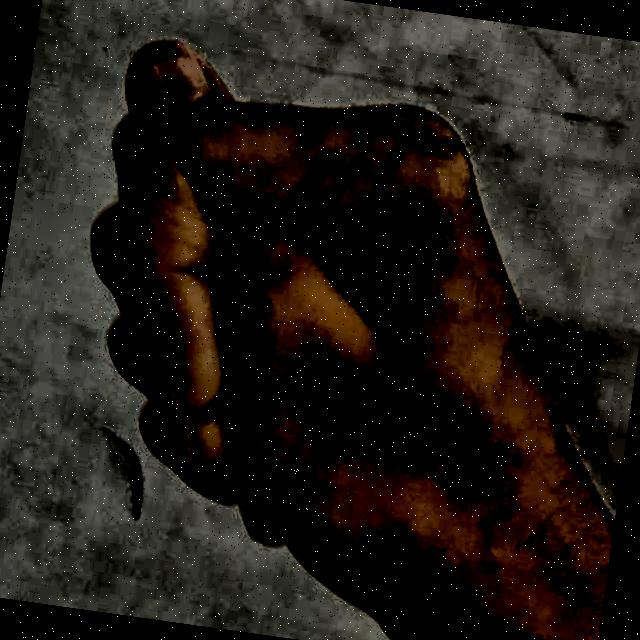Ta: (15, 0, 635, 640)
